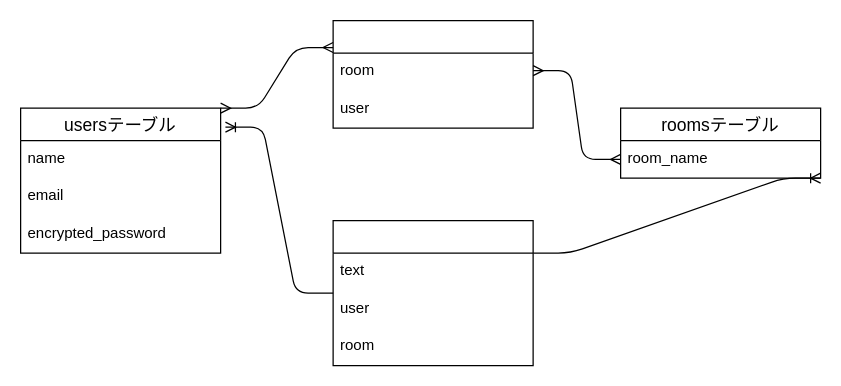
This 841x386 diagram has some shape labels left out. Each missing label, with the box of its shape:
messagesテーブル: (332, 219, 533, 366)
user_roomsテーブル: (332, 19, 533, 128)
